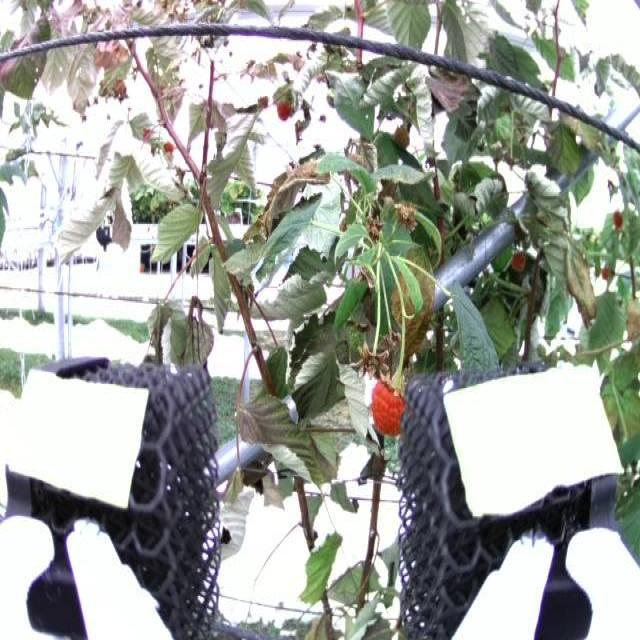Riped berries: (370, 372, 406, 432)
